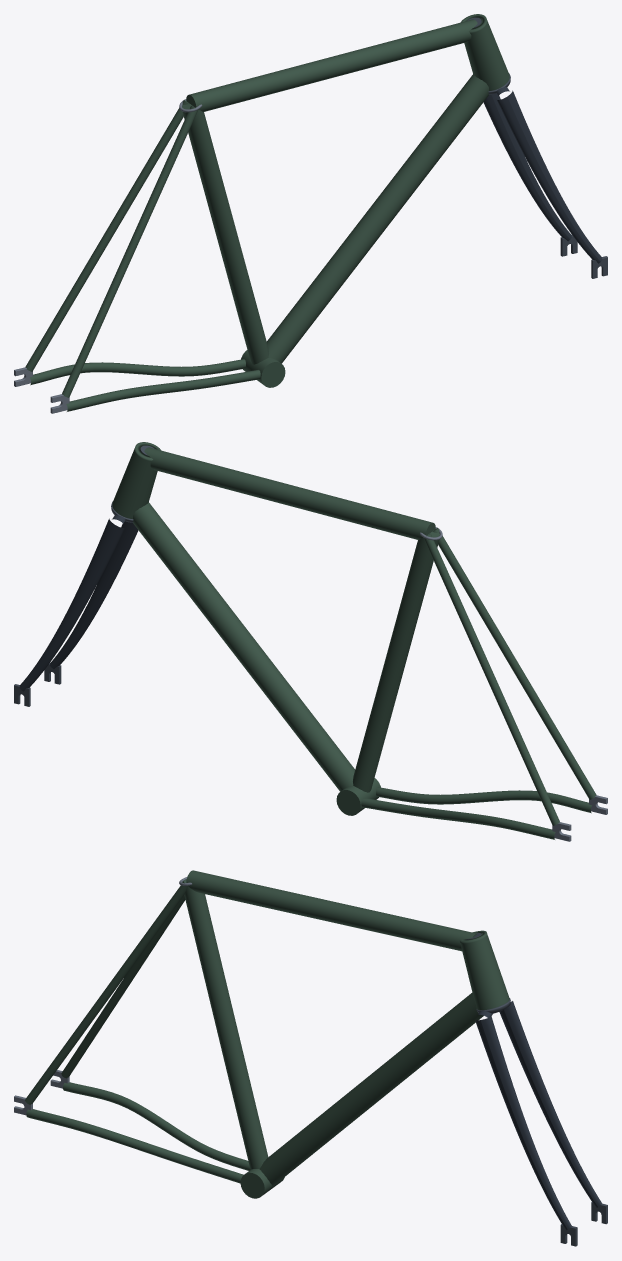
The model's file is skream-ranger-s.glb.
3 renders of one model, top to bottom at view 1: azimuth 30°, elevation 25°; view 2: azimuth 150°, elevation 25°; view 3: azimuth 330°, elevation 25°, orthographic.
Visible parts, largest first — view 1: paint_down, paint_top, paint_seat, paint_seatstay_1, paint_seatstay_-1, fork_blade_1, paint_chainstay_-1, fork_blade_-1, paint_chainstay_1, paint_head, paint_bottom_bracket; view 2: paint_down, paint_top, paint_seat, paint_seatstay_-1, paint_seatstay_1, fork_blade_-1, paint_chainstay_1, fork_blade_1, paint_chainstay_-1, paint_head, paint_bottom_bracket; view 3: paint_down, paint_top, paint_seat, fork_blade_1, fork_blade_-1, paint_seatstay_1, paint_head, paint_chainstay_1, paint_chainstay_-1, paint_seatstay_-1, paint_bottom_bracket.
Boxes of the visible parts, box(x1,y1,x2,y2) form: paint_down: box(267, 74, 488, 363); paint_top: box(186, 19, 477, 111); paint_seat: box(182, 102, 268, 364); paint_seatstay_1: box(62, 105, 198, 397); paint_seatstay_-1: box(25, 99, 188, 371); fork_blade_1: box(497, 90, 602, 263); paint_chainstay_-1: box(30, 359, 245, 385); fork_blade_-1: box(483, 93, 571, 241); paint_chainstay_1: box(66, 370, 260, 411); paint_head: box(460, 14, 509, 90); paint_bottom_bracket: box(241, 350, 285, 387); paint_down: box(133, 502, 354, 791); paint_top: box(144, 447, 435, 539); paint_seat: box(353, 530, 439, 792); paint_seatstay_-1: box(423, 533, 559, 825); paint_seatstay_1: box(433, 527, 596, 799); fork_blade_-1: box(19, 518, 124, 691); paint_chainstay_1: box(376, 787, 591, 813); fork_blade_1: box(50, 521, 138, 669); paint_chainstay_-1: box(361, 798, 555, 839); paint_head: box(112, 442, 161, 518); paint_bottom_bracket: box(336, 778, 380, 815); paint_down: box(259, 992, 483, 1185); paint_top: box(186, 870, 477, 951); paint_seat: box(182, 879, 268, 1169); fork_blade_1: box(475, 1016, 571, 1230); fork_blade_-1: box(499, 1001, 602, 1207); paint_seatstay_1: box(25, 880, 188, 1104); paint_head: box(459, 930, 509, 1010); paint_chainstay_1: box(26, 1109, 243, 1183); paint_chainstay_-1: box(63, 1082, 250, 1170); paint_seatstay_-1: box(61, 895, 185, 1078); paint_bottom_bracket: box(240, 1169, 284, 1198).
Size of the model in its own units: 1.06 by 0.5614 by 0.1393.
